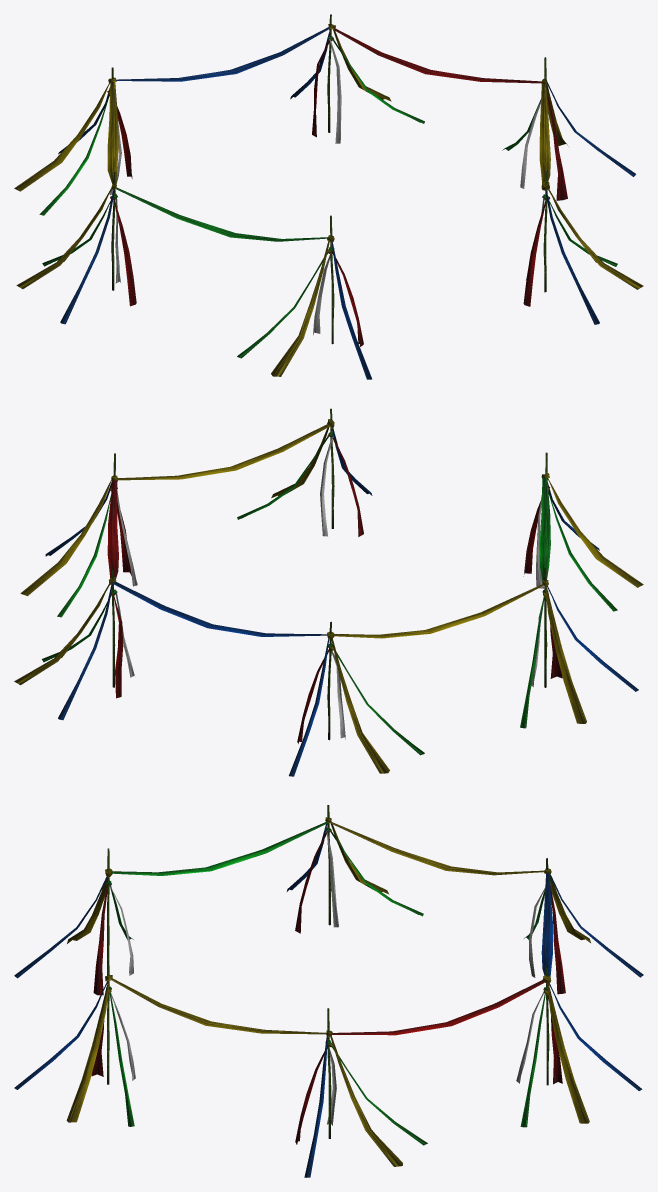
Rendered from shrine_12.fbx.
3 renders of one model, top to bottom at view 1: azimuth 30°, elevation 25°; view 2: azimuth 150°, elevation 25°; view 3: azimuth 270°, elevation 25°, orthographic.
Parts seen in each view (by area): view 1: Shrine_12; view 2: Shrine_12; view 3: Shrine_12.
Part boxes in pixels (x1,y1,x2,y2): Shrine_12: (14, 14, 643, 379); Shrine_12: (14, 408, 643, 776); Shrine_12: (14, 805, 643, 1177).
Size of the model in its own units: 47.16 by 10.22 by 43.48.
